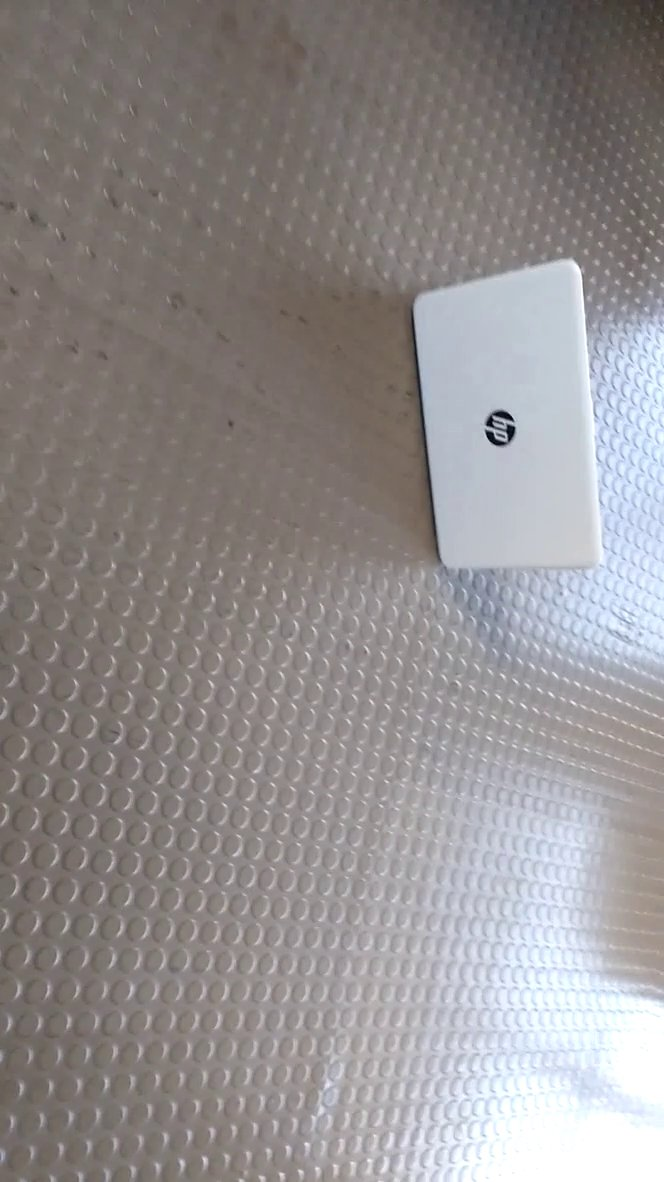laptop: (402, 253, 621, 581)
